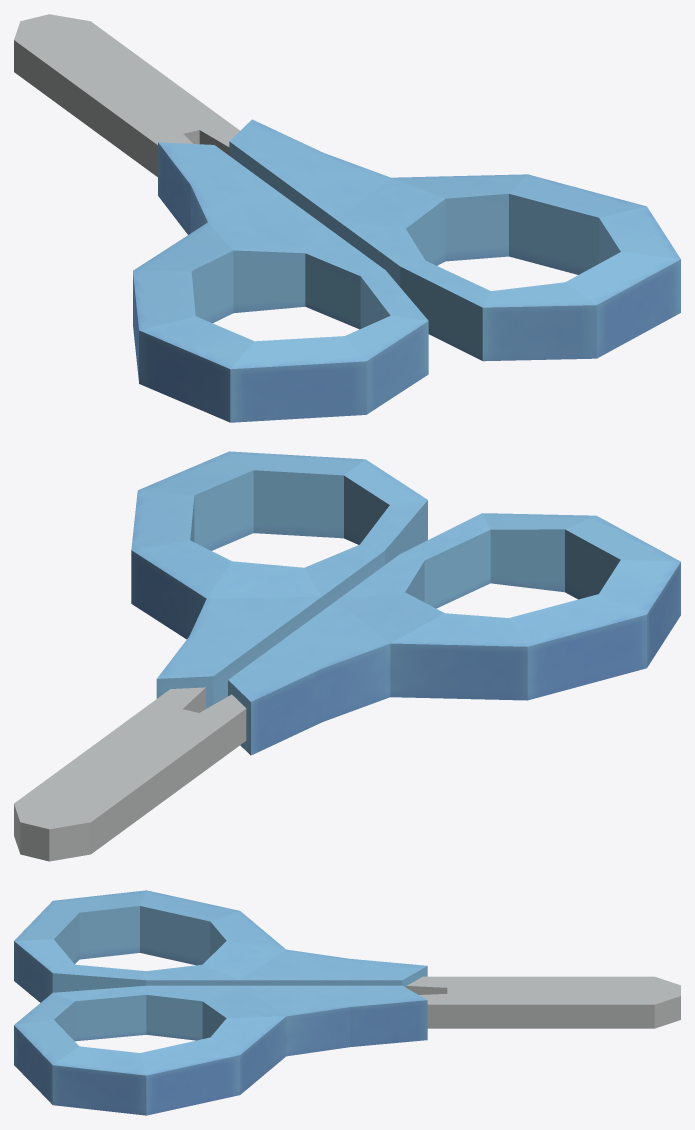
File: dog_nail_clippers.fbx
3 renders of one model, top to bottom at view 1: azimuth 30°, elevation 25°; view 2: azimuth 150°, elevation 25°; view 3: azimuth 270°, elevation 25°, orthographic. The views are drawn at different scales.
Parts seen in each view (by area): view 1: dog_nail_clippers_part_2, dog_nail_clippers_part_1; view 2: dog_nail_clippers_part_2, dog_nail_clippers_part_1; view 3: dog_nail_clippers_part_2, dog_nail_clippers_part_1.
Part boxes in pixels (box(x1,y1,x2,y2)): dog_nail_clippers_part_2: box(133, 119, 680, 422); dog_nail_clippers_part_1: box(14, 14, 239, 176); dog_nail_clippers_part_2: box(131, 451, 680, 755); dog_nail_clippers_part_1: box(14, 687, 246, 861); dog_nail_clippers_part_2: box(14, 890, 427, 1115); dog_nail_clippers_part_1: box(406, 976, 680, 1028).
Size of the model in its own units: 5.5 by 0.6491 by 8.36.
1 material, 1 textured.
